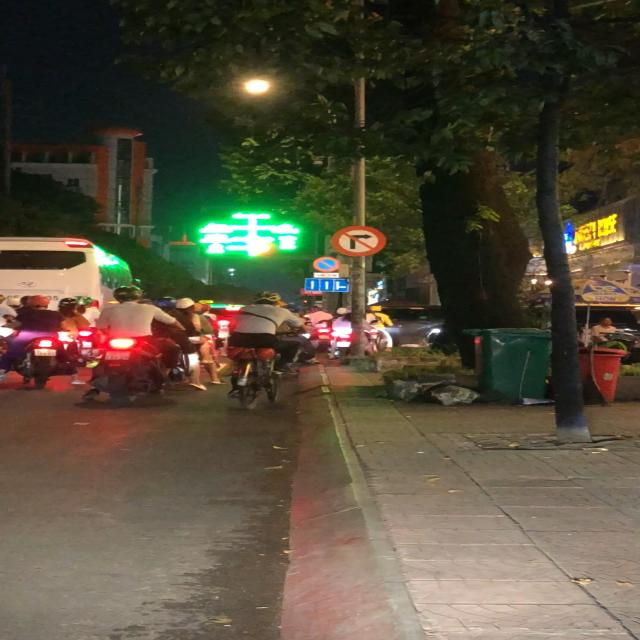Bien bao cam do xe: (313, 255, 342, 272)
Bien bao cam re phai: (328, 224, 387, 258)
